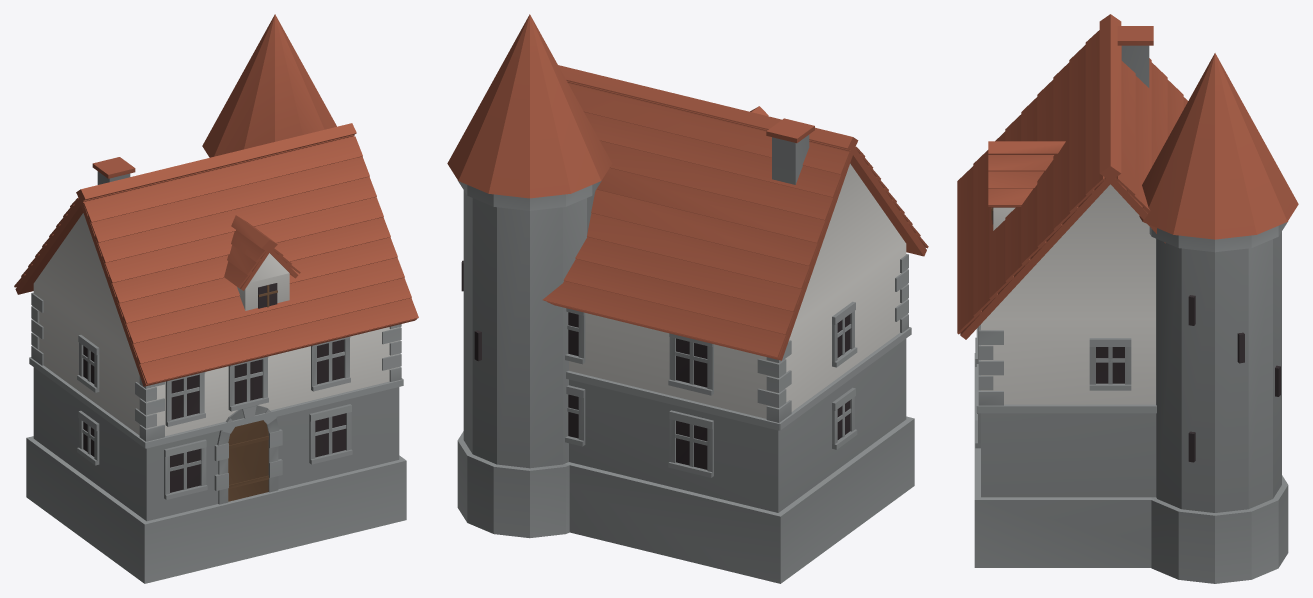
File: house_2.glb
The picture shows the model from 3 angles, left to right: view 1: azimuth 30°, elevation 25°; view 2: azimuth 150°, elevation 25°; view 3: azimuth 270°, elevation 25°; orthographic projection. The views are drawn at different scales.
Parts seen in each view (by area): view 1: house_2; view 2: house_2; view 3: house_2.
Part boxes in pixels (x1,y1,x2,y2): house_2: [14, 14, 418, 583]; house_2: [447, 14, 928, 583]; house_2: [957, 14, 1298, 583].
Bounding box in the file's own units: 9.6 × 13.2 × 8.16.
